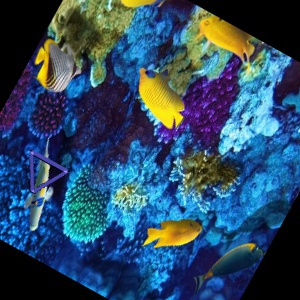triangle: (28, 149, 68, 195)
